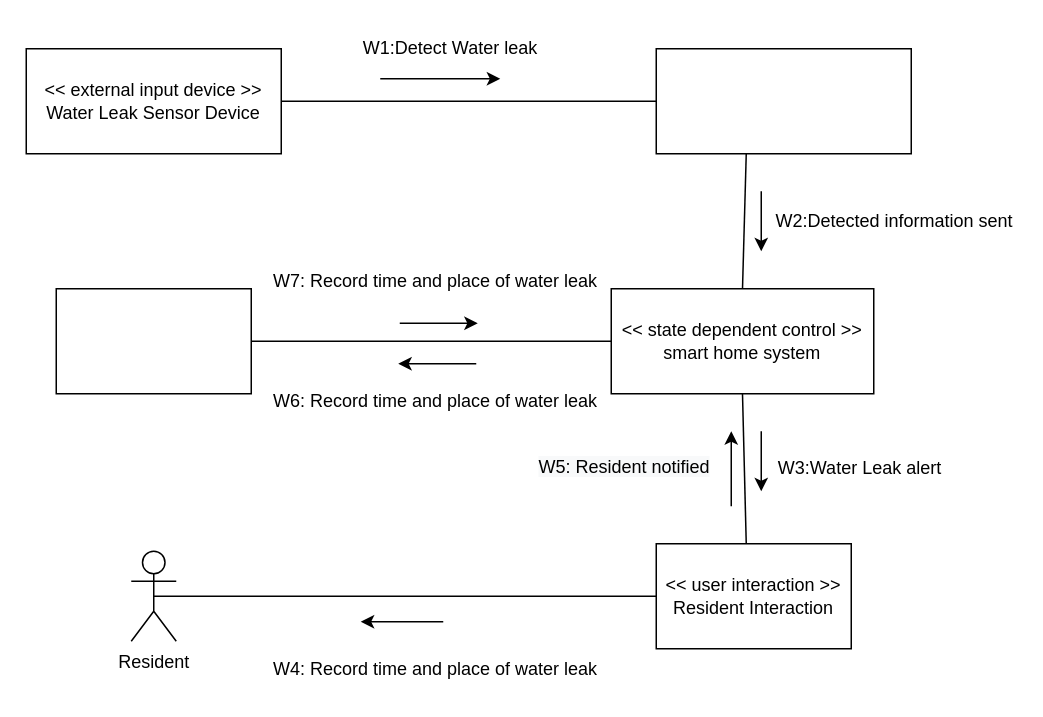
The diagram is 1043 pixels wide and 717 high, and some of its shapes have lost their labels. The shapes that lost their labels are listed below. From the top down, each one's centre as x and y in pixels, then its label:
the point at 783,100: << input >> Water Leak Sensor Interface
the point at 153,340: << entity >> water leak log
